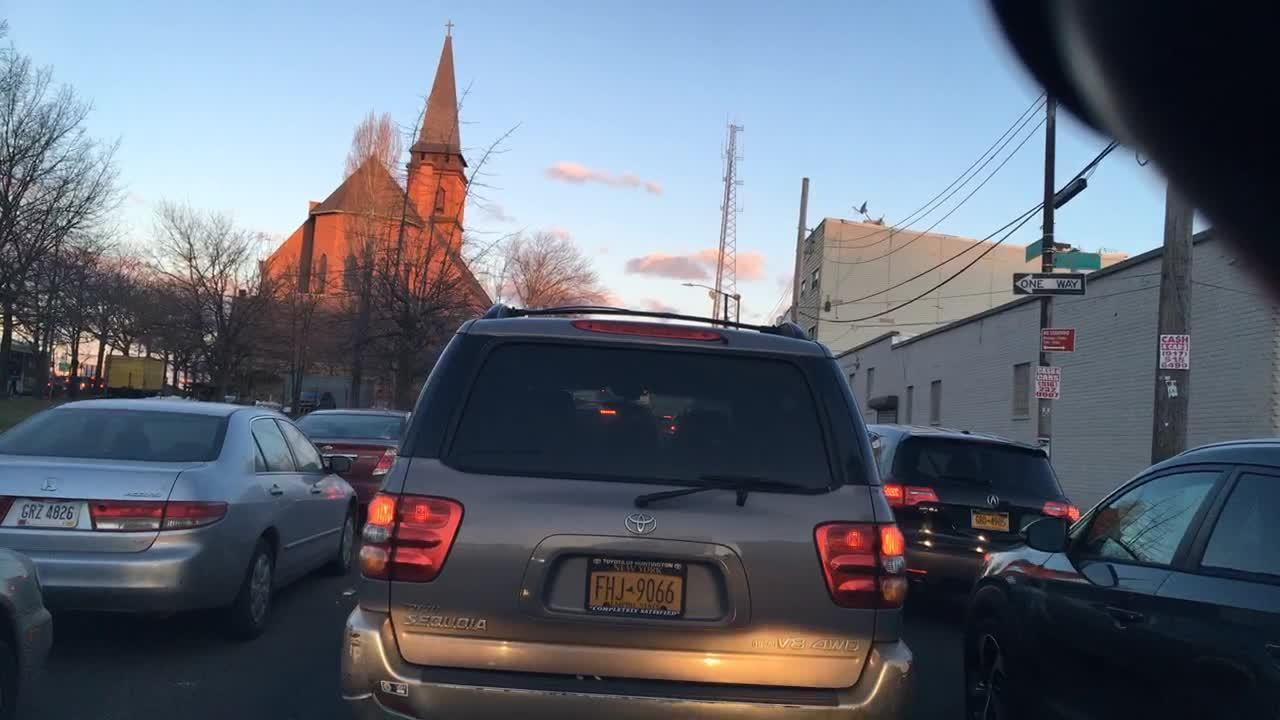Toyota: (621, 508, 662, 540)
acura: (984, 492, 1002, 510)
